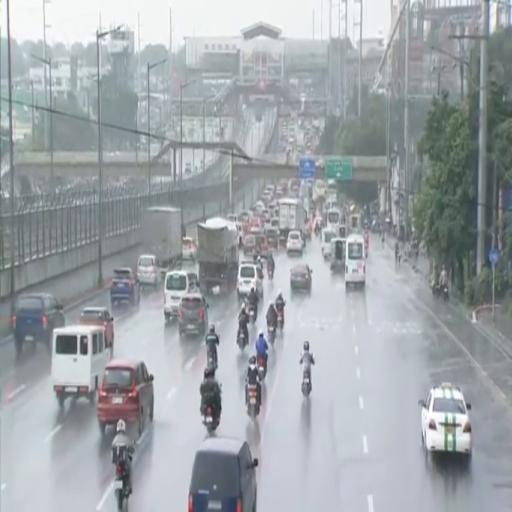bus: (345, 234, 366, 289)
car: (189, 437, 258, 511), (51, 326, 112, 408), (97, 359, 154, 436), (419, 383, 472, 458), (12, 294, 65, 355), (164, 270, 199, 322), (79, 308, 114, 348), (179, 293, 208, 337), (110, 267, 140, 307), (237, 262, 263, 299), (137, 254, 160, 285), (290, 264, 312, 292), (321, 229, 336, 259), (286, 231, 303, 254), (254, 231, 267, 258), (182, 237, 196, 261), (265, 227, 279, 249), (243, 234, 255, 255), (239, 211, 251, 223), (270, 217, 279, 230)
motorcycle: (114, 463, 129, 511), (247, 386, 260, 419), (203, 406, 218, 434), (301, 364, 311, 397), (237, 327, 248, 349), (207, 347, 217, 370), (257, 357, 266, 380), (248, 304, 256, 324), (268, 325, 275, 344), (432, 282, 440, 298), (277, 310, 283, 331), (442, 286, 449, 301), (268, 266, 273, 279), (315, 224, 320, 236)
truck: (197, 218, 238, 295), (140, 206, 182, 277), (278, 198, 306, 242)
